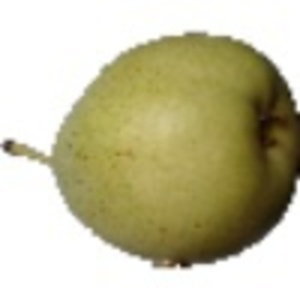pera: (1, 29, 300, 273)
